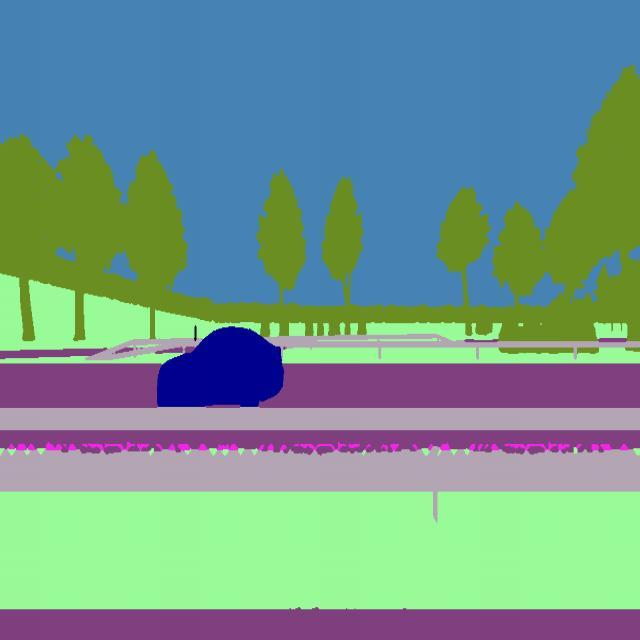safe: (154, 324, 286, 412)
